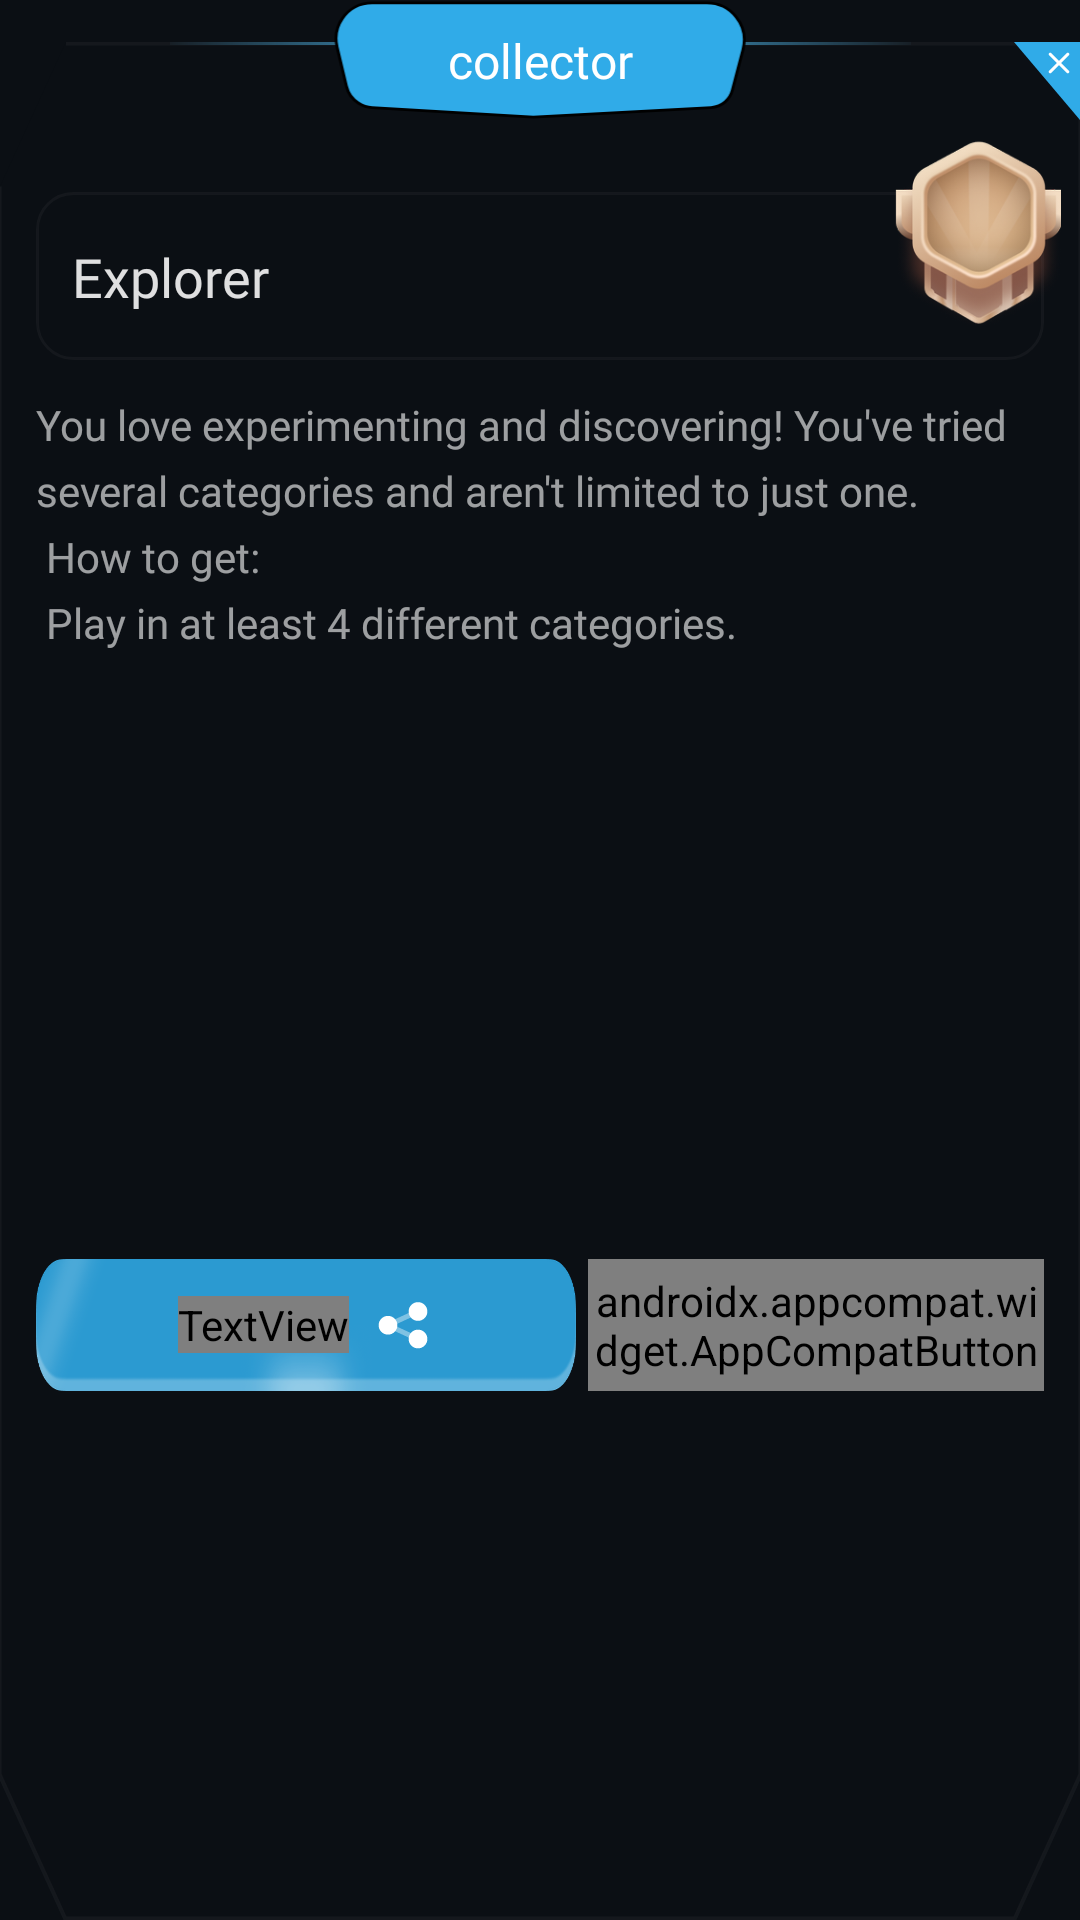

Screen size 1080*1920. Icon name, then its box in pixels as (x1, y1, x2, y2):
Cancel: (1014, 42, 1080, 120)
Share with friends: (378, 1302, 428, 1349)
